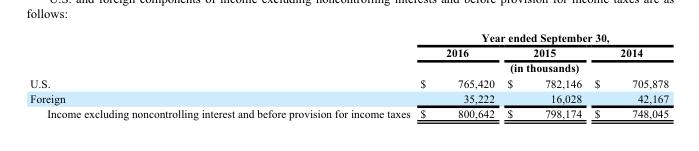table: (29, 29, 668, 120)
table column: (29, 29, 414, 120), (500, 29, 587, 120), (414, 29, 500, 120), (587, 29, 668, 120)
table column header: (29, 29, 668, 74)
table row: (29, 74, 668, 90), (29, 29, 668, 44), (29, 44, 668, 59), (29, 59, 668, 74), (29, 90, 668, 105), (29, 105, 668, 120)
table spanning cell: (414, 29, 668, 44), (414, 59, 668, 74)
